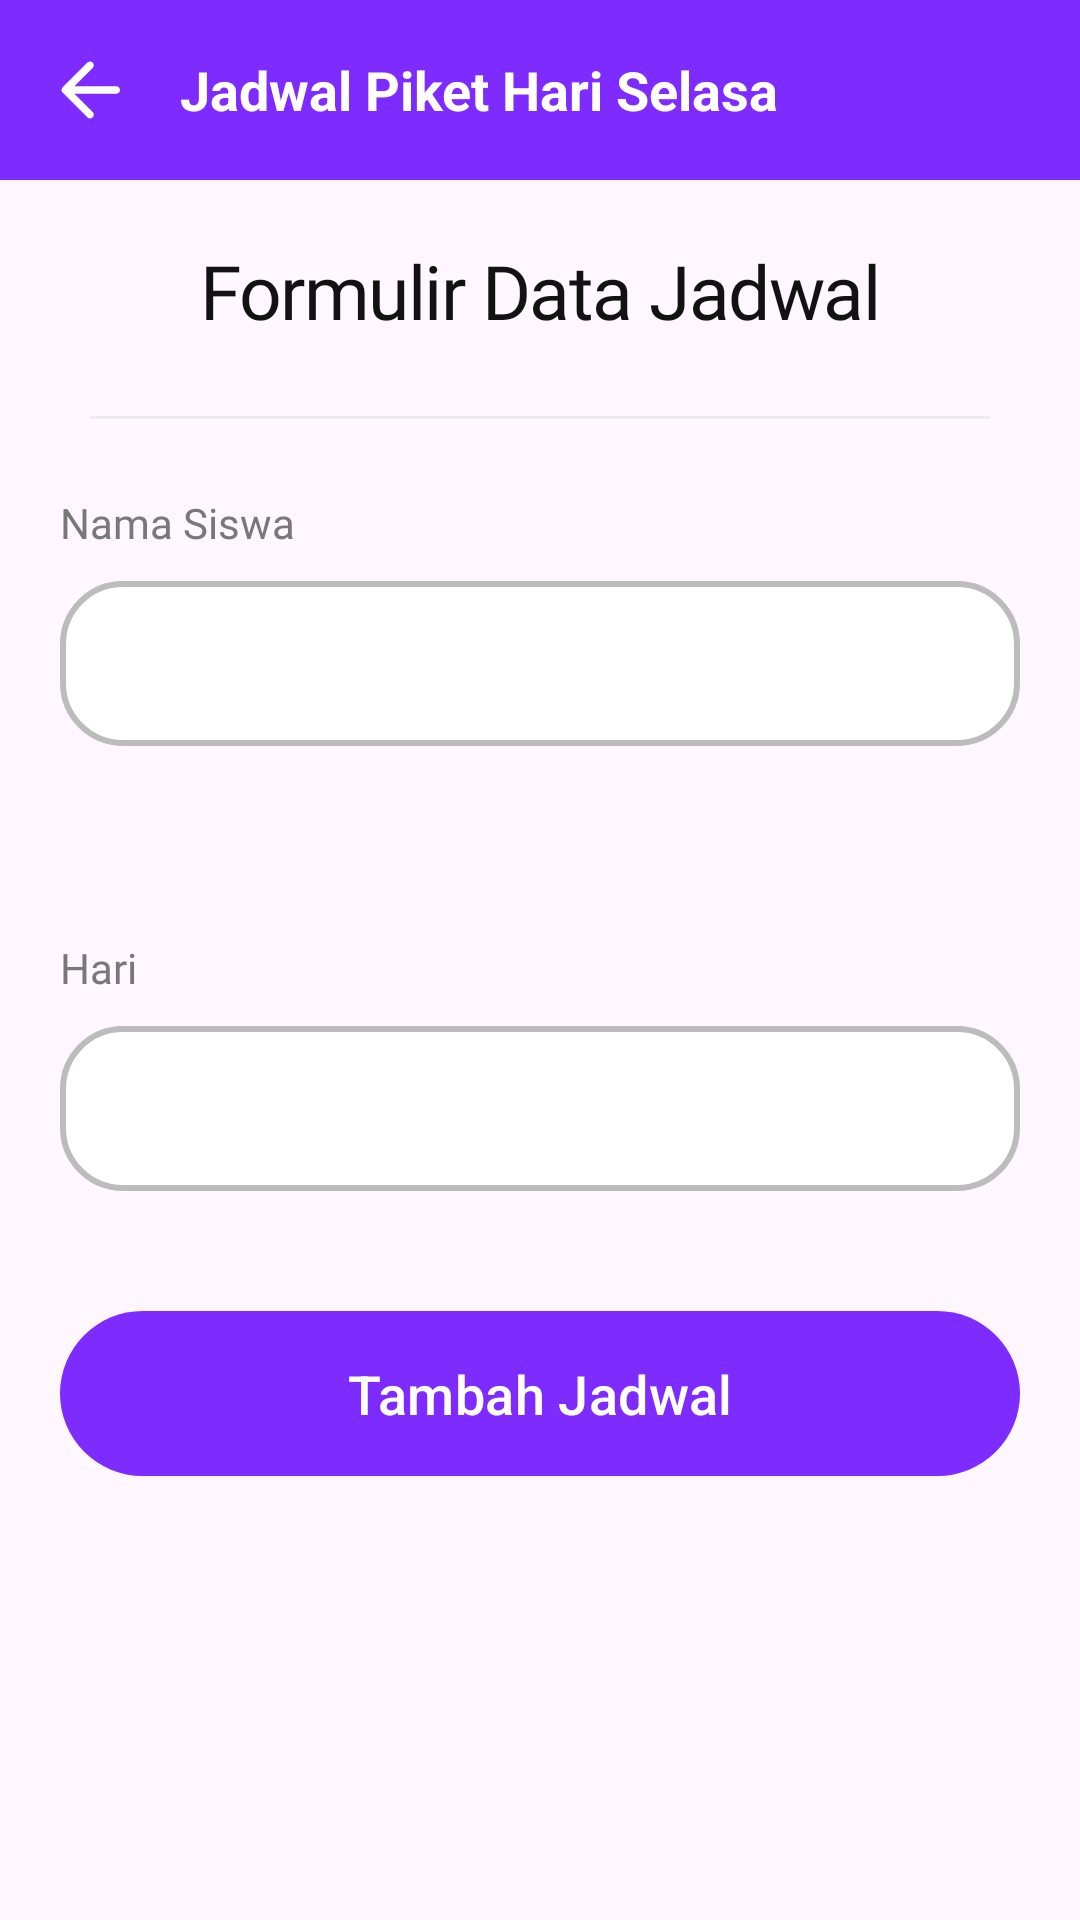

Screen size 1080 x 1920. Icon name, then its center in pixels as (x=x, y=y):
back: (x=90, y=90)
